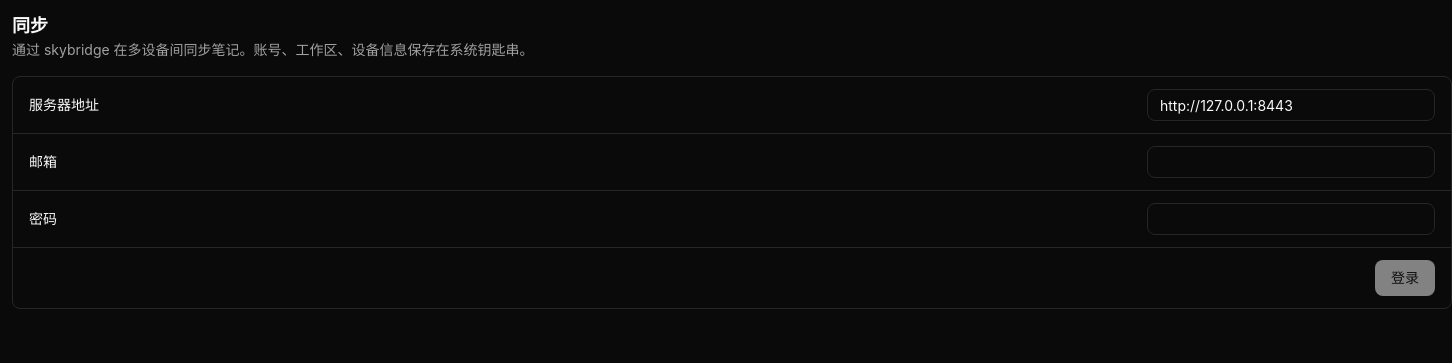
Test case: SyncSection — unauth → login → auth flow › surfaces 邮箱或密码不正确 on INVALID_CREDENTIALS reply, keeps form mounted
This screenshot has width=1452, height=363.
Expected: the button "登录" is shown, [1375,260,1435,296]
Type "a@test" into the field in the row of "邮箱" at (1291, 162), box [1147,146,1435,178]
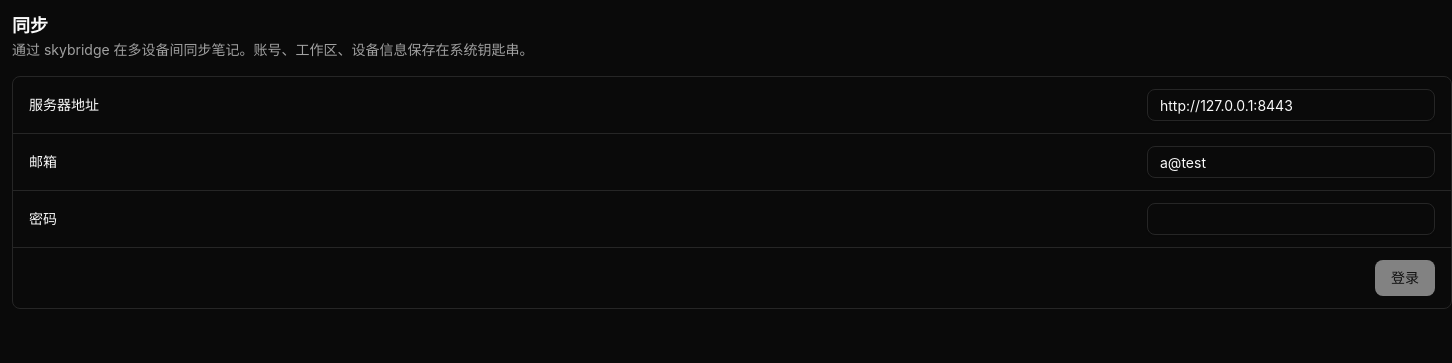
Type "bad" into the password field at (1291, 219), box [1147,203,1435,235]
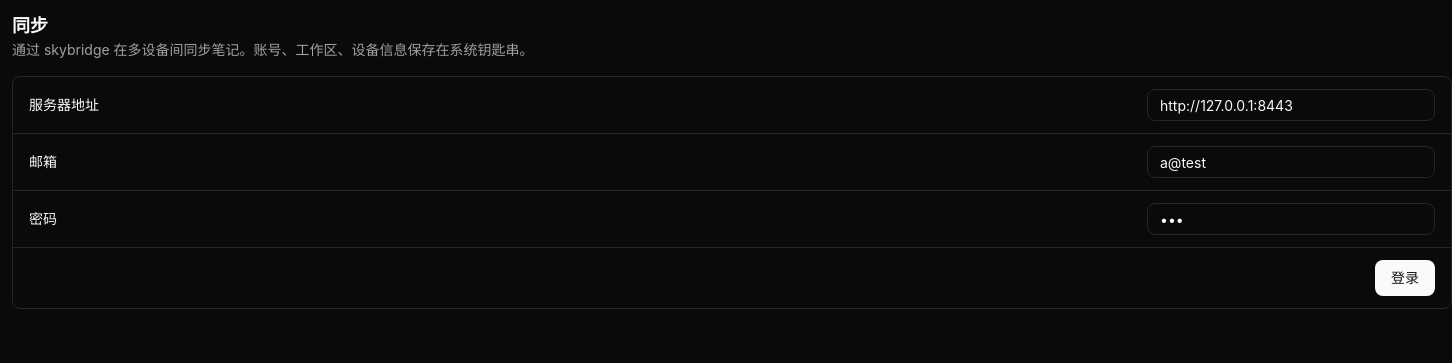
Click the button "登录" at (1405, 278), box [1375,260,1435,296]
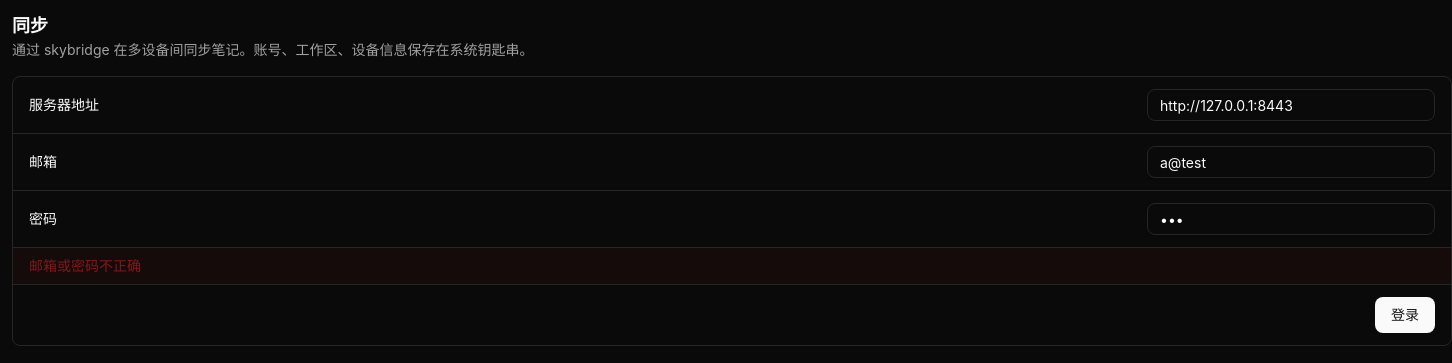
Expected: the button "登录" is shown, [1375,297,1435,333]
Result: the text "邮箱或密码不正确" is shown at [13,248,1451,285]
